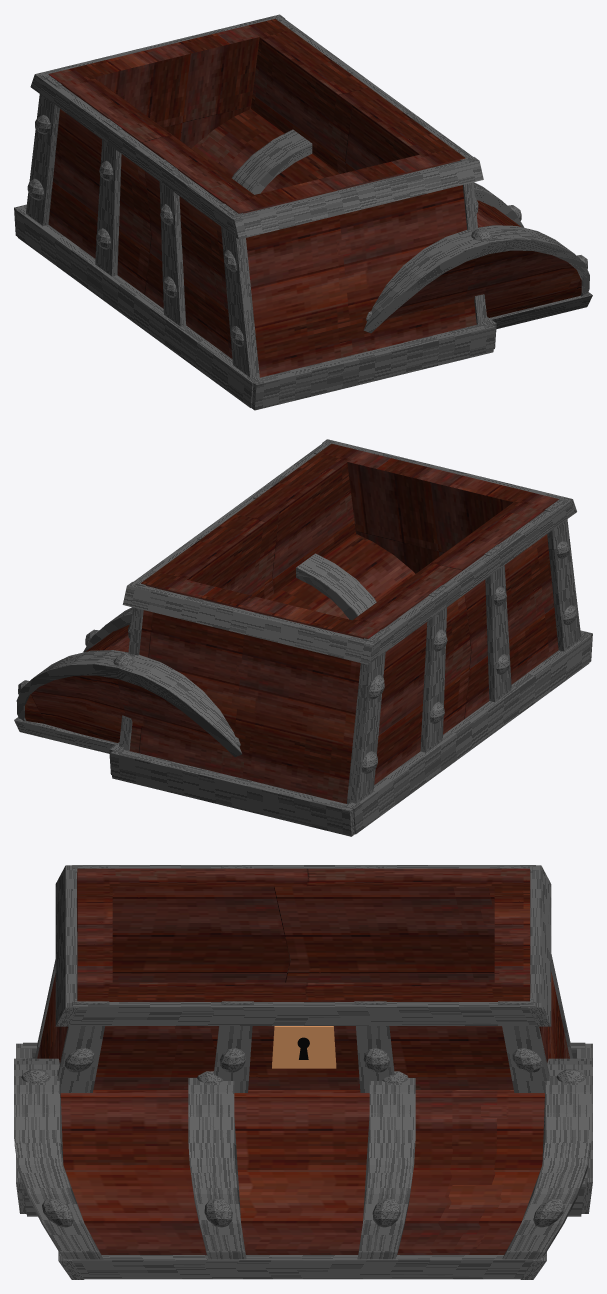
The model's file is small-chest2.glb.
3 views of the same model, one above another, from view 1: azimuth 30°, elevation 25°; view 2: azimuth 150°, elevation 25°; view 3: azimuth 270°, elevation 25° (orthographic). The views are drawn at different scales.
Parts seen in each view (by area): view 1: Plane, Cylinder; view 2: Plane, Cylinder; view 3: Plane, Cylinder.
Boxes of the visible parts, <box> form: Plane: <box>14,14,496,410</box>; Cylinder: <box>192,109,592,333</box>; Plane: <box>109,439,592,836</box>; Cylinder: <box>14,534,415,756</box>; Plane: <box>16,865,592,1216</box>; Cylinder: <box>14,1058,591,1279</box>.
Bounding box in the file's own units: 1.28 × 0.6041 × 1.5.
4 materials, 2 textured.
